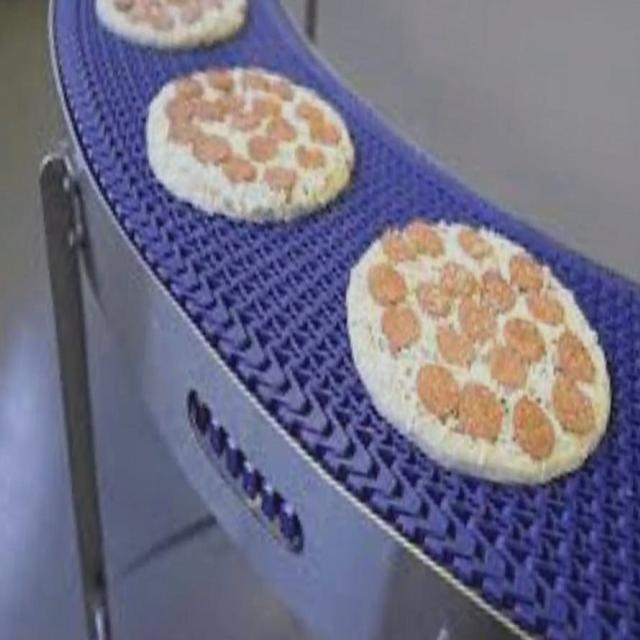food: (346, 210, 616, 490), (140, 60, 362, 224)
